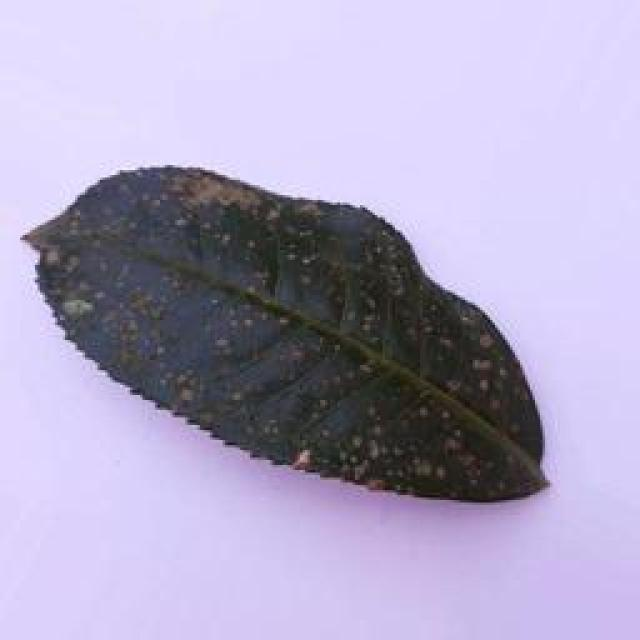Algal Leaf Spot: (18, 154, 571, 518)
